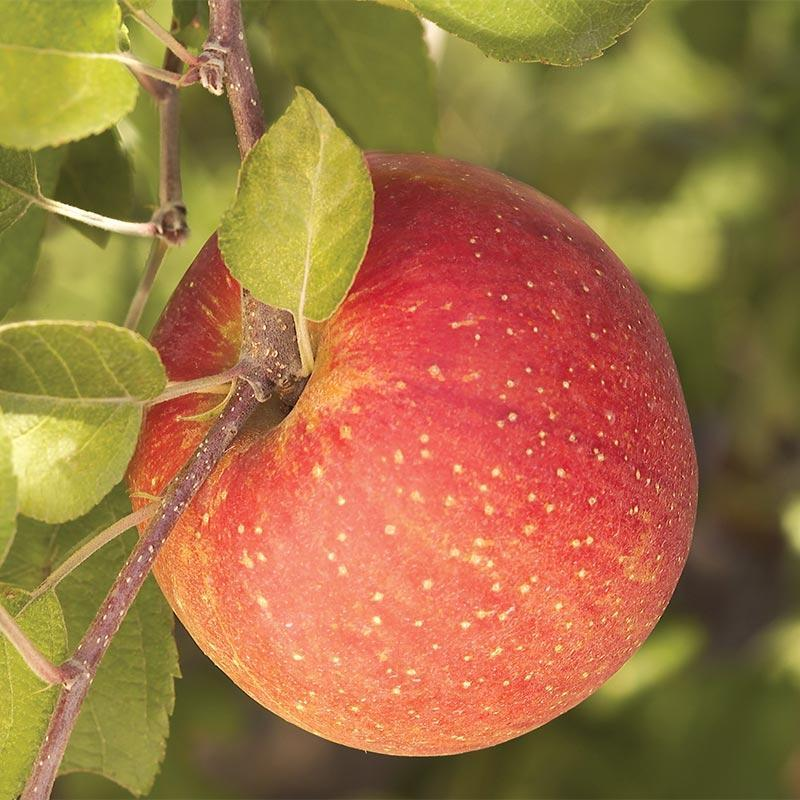apple: (124, 145, 702, 760)
